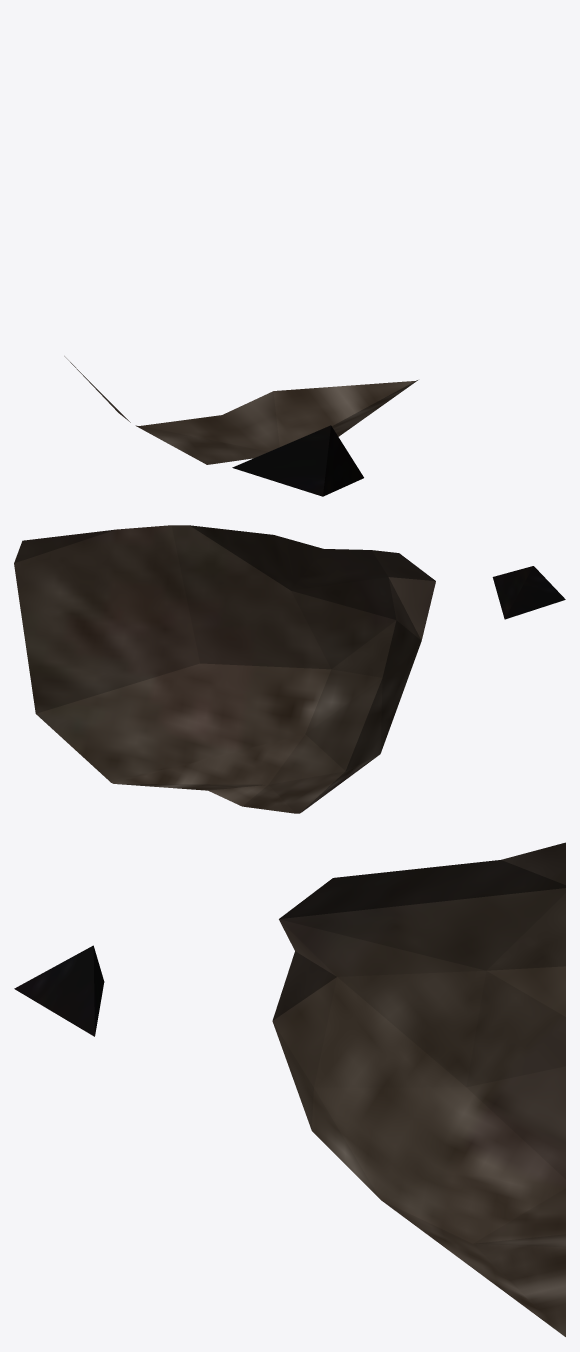
3 views of the same model, one above another, from view 1: azimuth 30°, elevation 25°; view 2: azimuth 150°, elevation 25°; view 3: azimuth 270°, elevation 25° (orthographic). The views are drawn at different scales.
Size of the model in its own units: 0.6399 by 0.3493 by 0.5531.
Materials: 1 (1 with a texture image).
